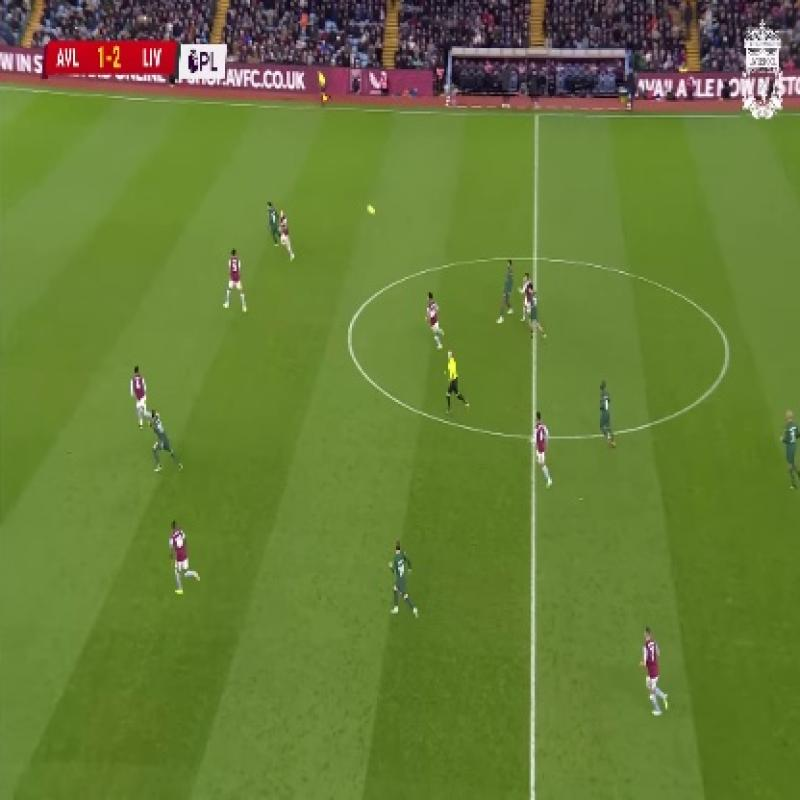13: (527, 100, 548, 125)
14: (523, 241, 548, 272)
15: (518, 417, 542, 452)
c: (706, 332, 752, 372), (336, 318, 364, 353)
